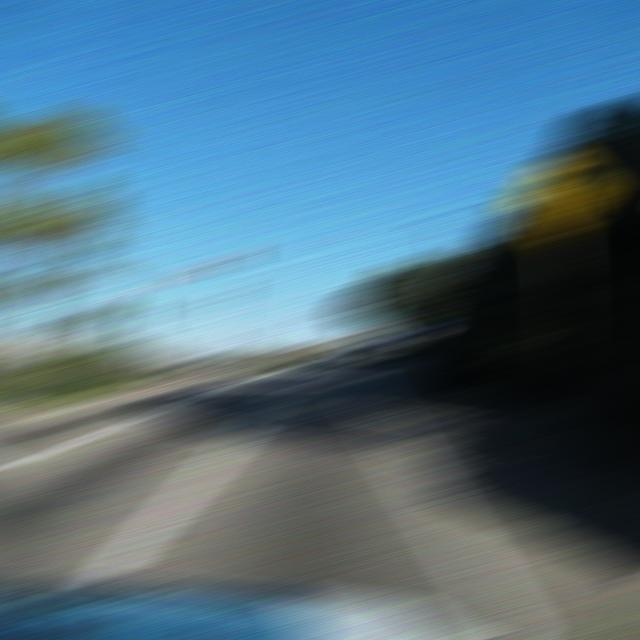pedestrianCrossing: (506, 148, 612, 246)
